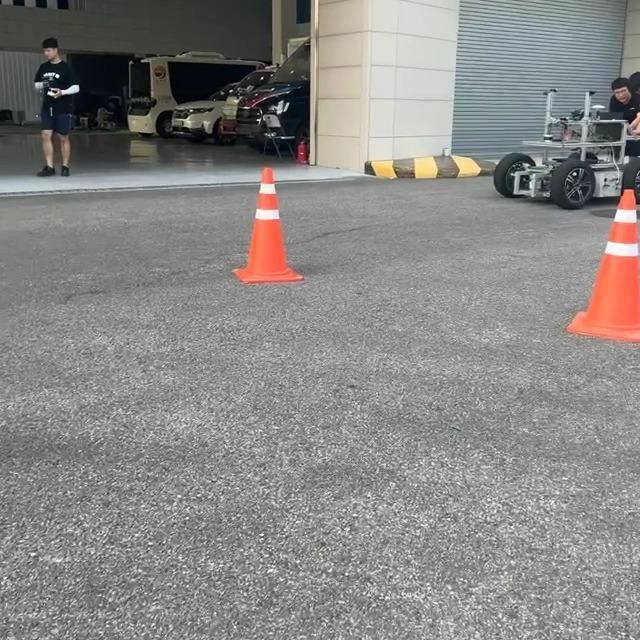fallen_object: (509, 155, 640, 380), (203, 175, 322, 337)
